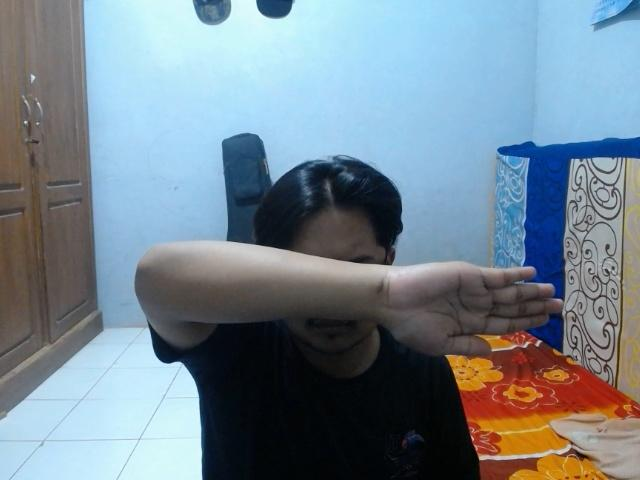Release: (381, 254, 564, 362)
